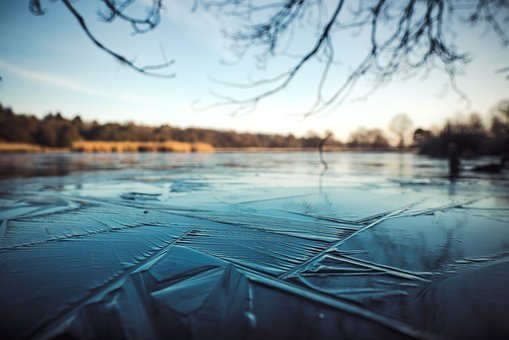lake: (3, 136, 504, 335)
sky: (7, 1, 504, 137)
